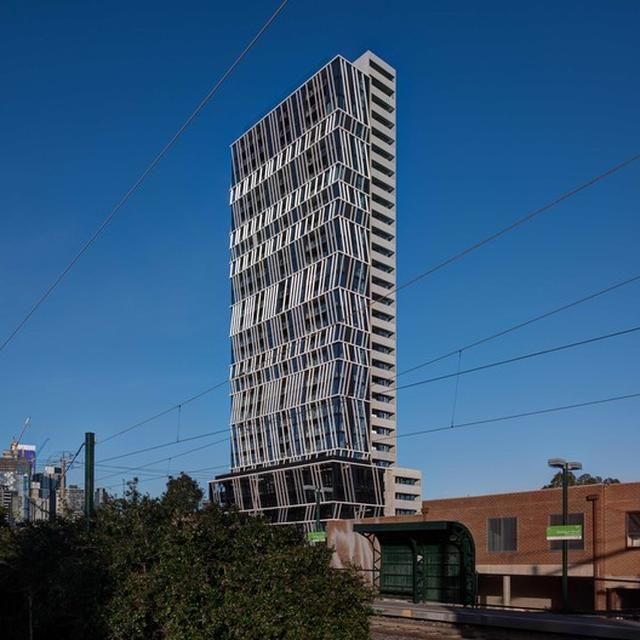building: (217, 45, 420, 528), (408, 475, 640, 600)
